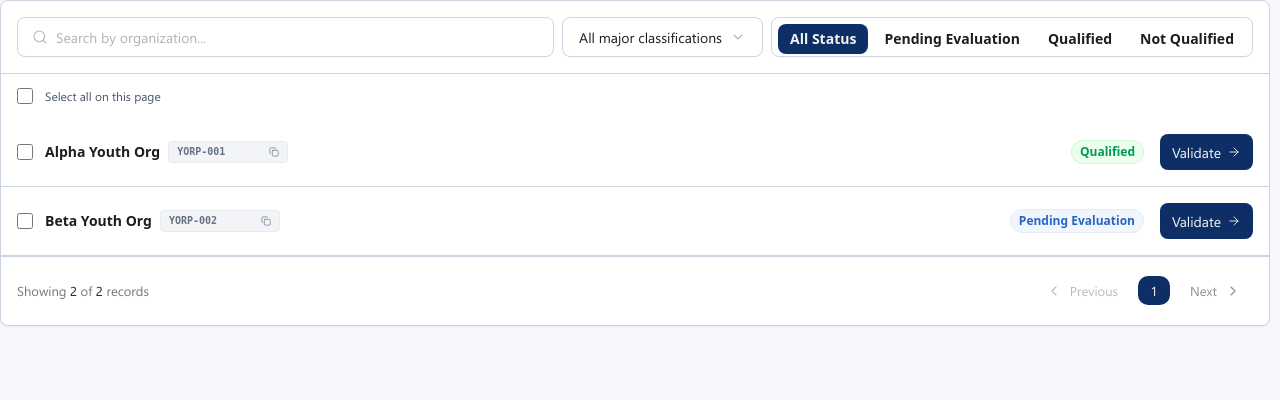
Test: YPOP submission selection and deletion actions › lets an administrator select a single organization submission
Click the checkbox named "Select Beta Youth Org" at (25, 221), box x1=17 y1=213 x2=33 y2=229
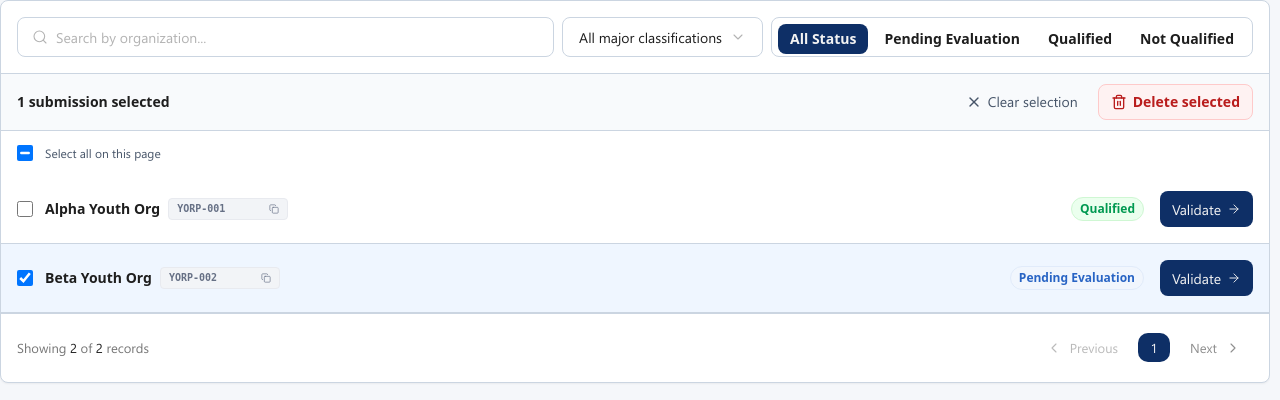
Expected: the checkbox named "Select Beta Youth Org" is checked, x1=17 y1=270 x2=33 y2=286
Expected: the text "1 submission selected" is shown, x1=17 y1=92 x2=170 y2=112
